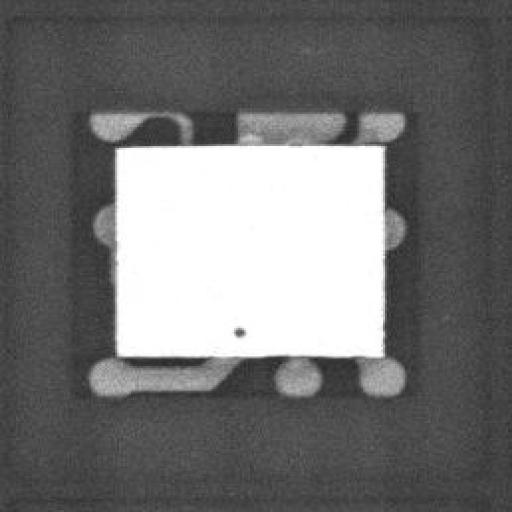DIE_INK: (216, 338, 237, 354)
